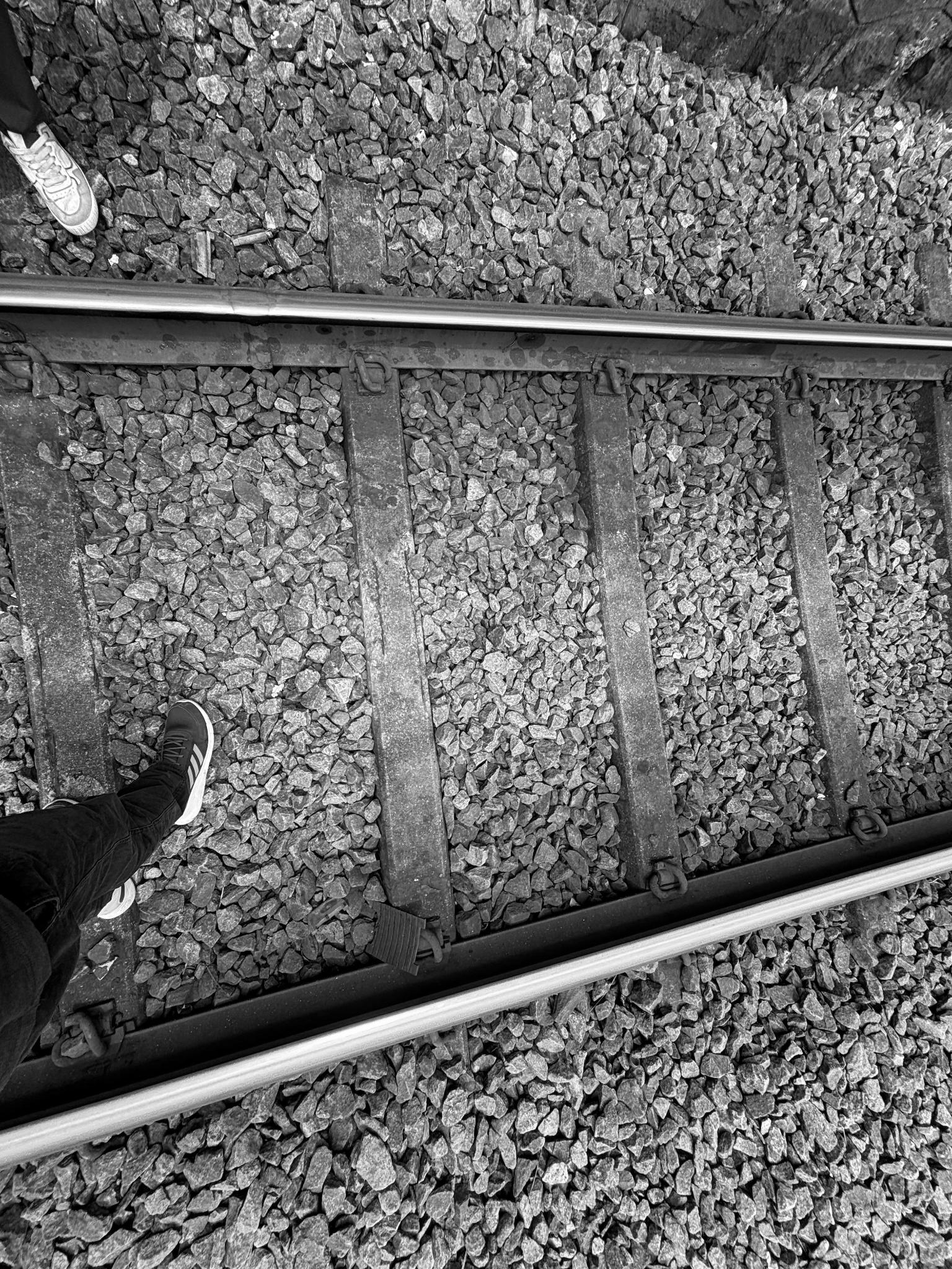cracks in midportion: (394, 539, 441, 736), (368, 553, 390, 662)
